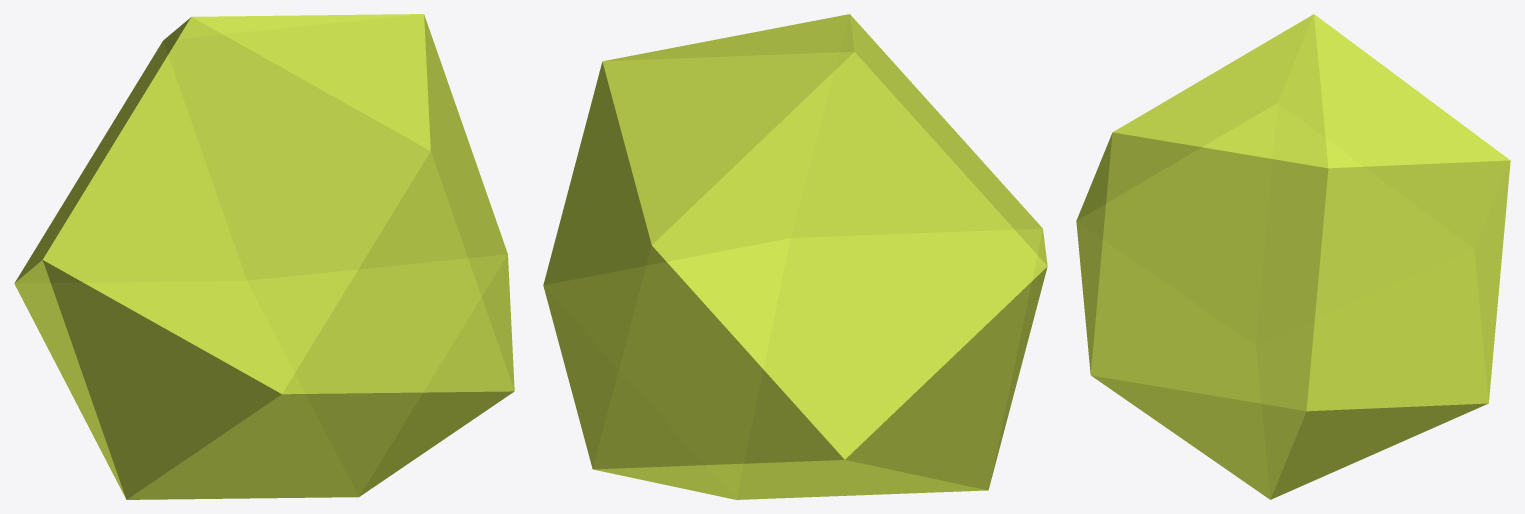
File: j27_triangular_orthobicupola.obj
3 views of the same model, side by side, from view 1: azimuth 30°, elevation 25°; view 2: azimuth 150°, elevation 25°; view 3: azimuth 270°, elevation 25° (orthographic). The views are drawn at different scales.
Bounding box in the file's own units: 1.94 × 1.91 × 1.76.
